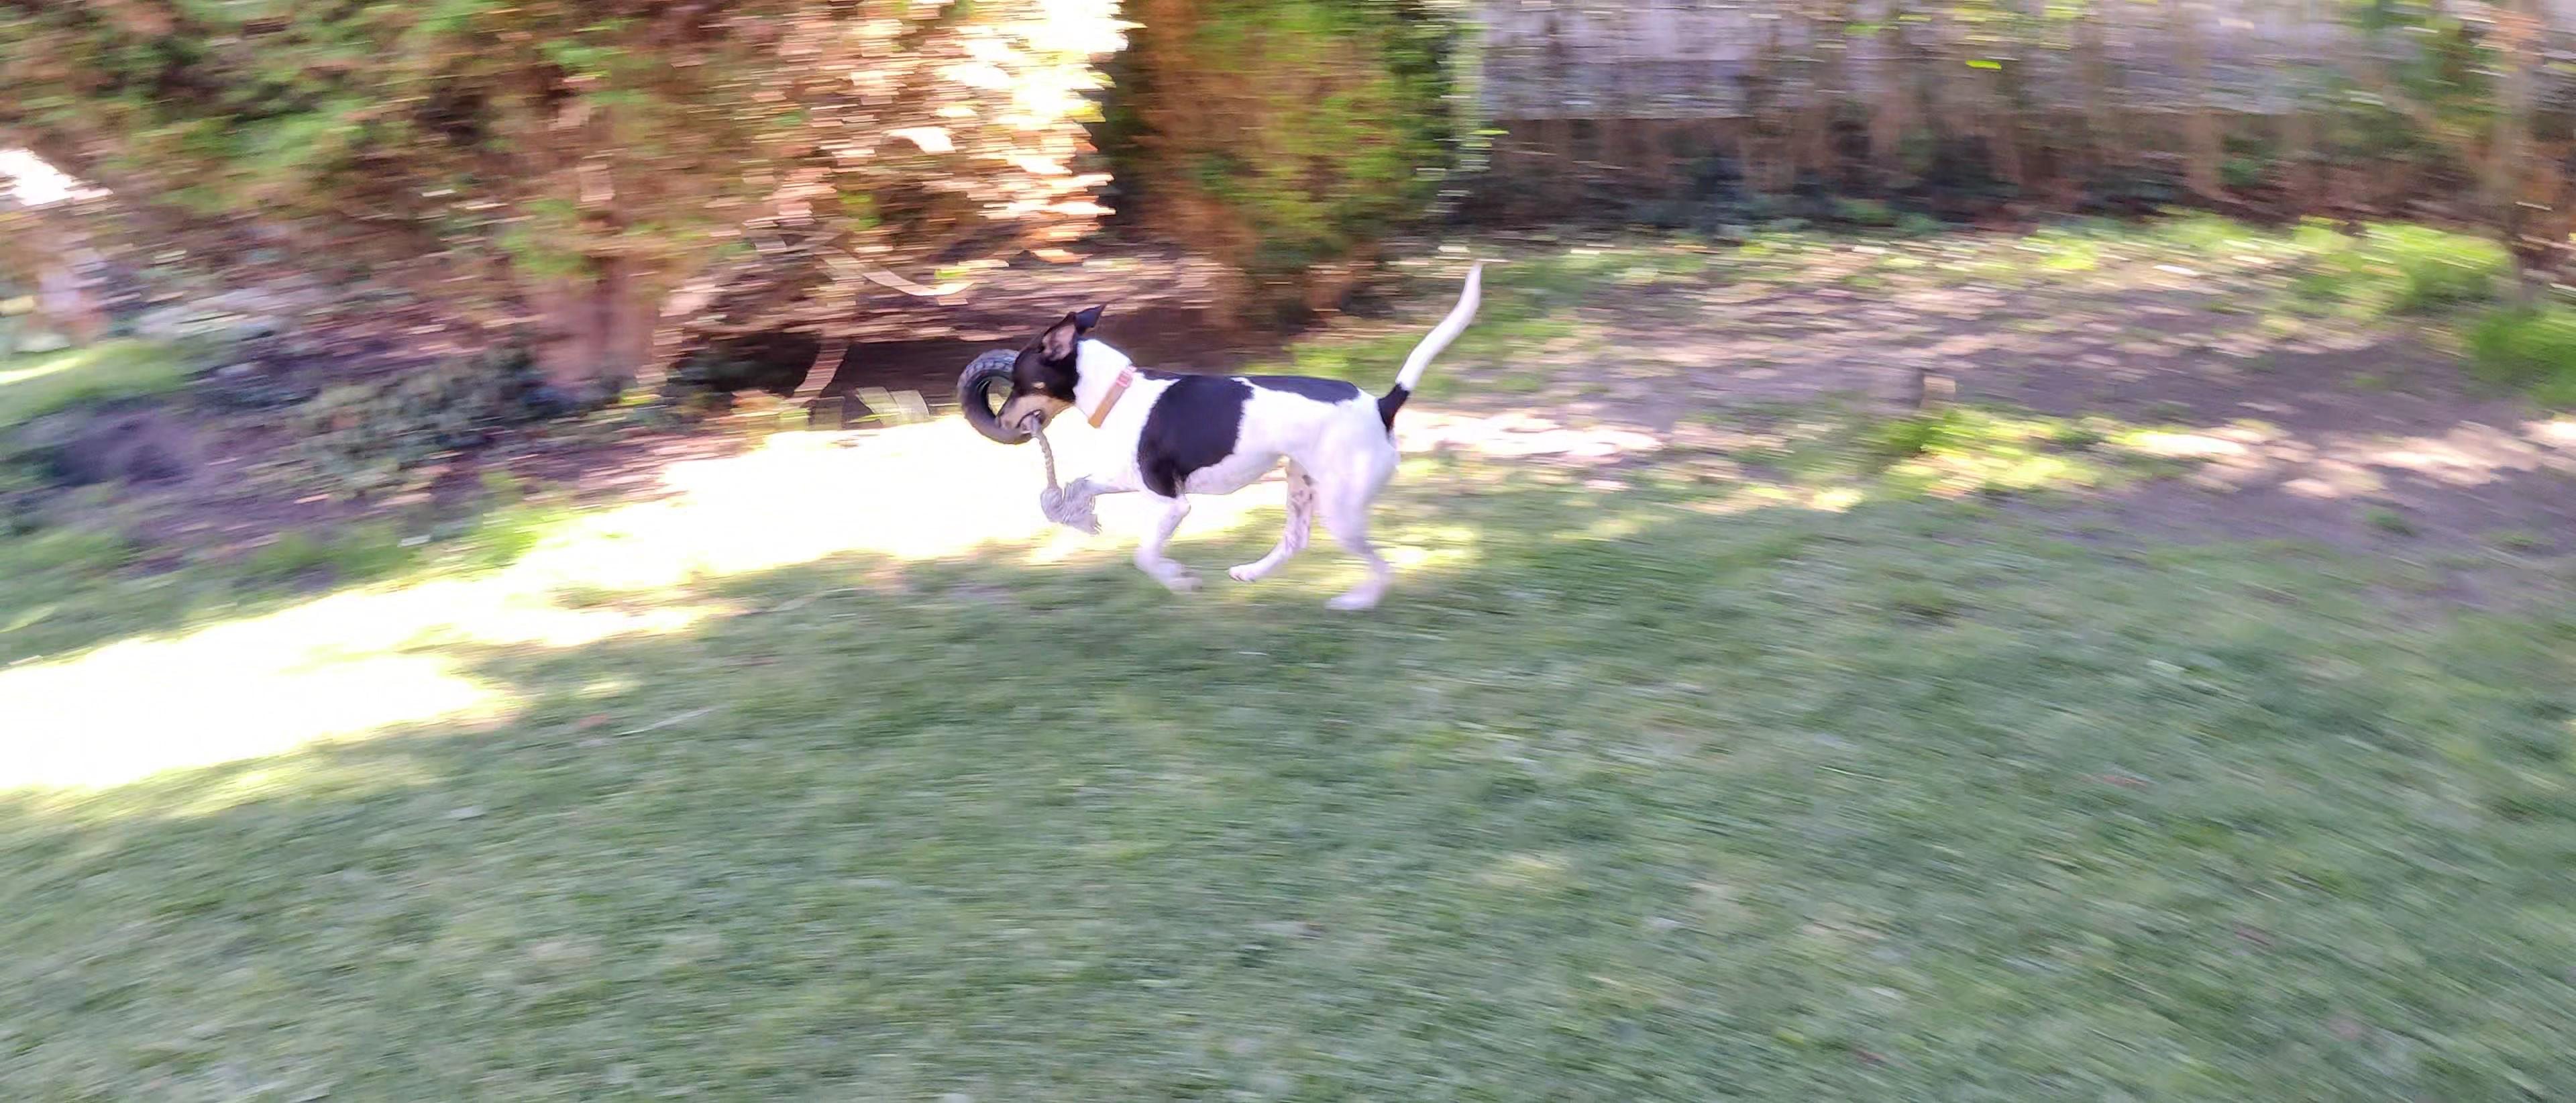Dog: (984, 224, 1488, 621)
